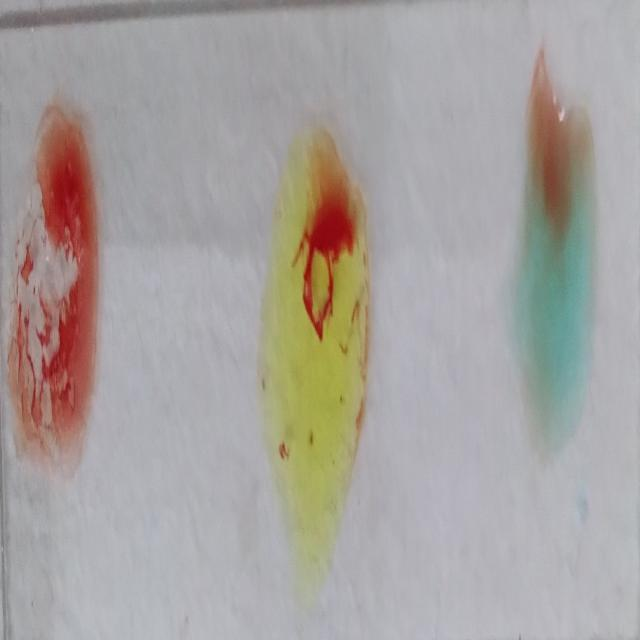B: (264, 122, 370, 580)
D: (9, 99, 101, 485)
